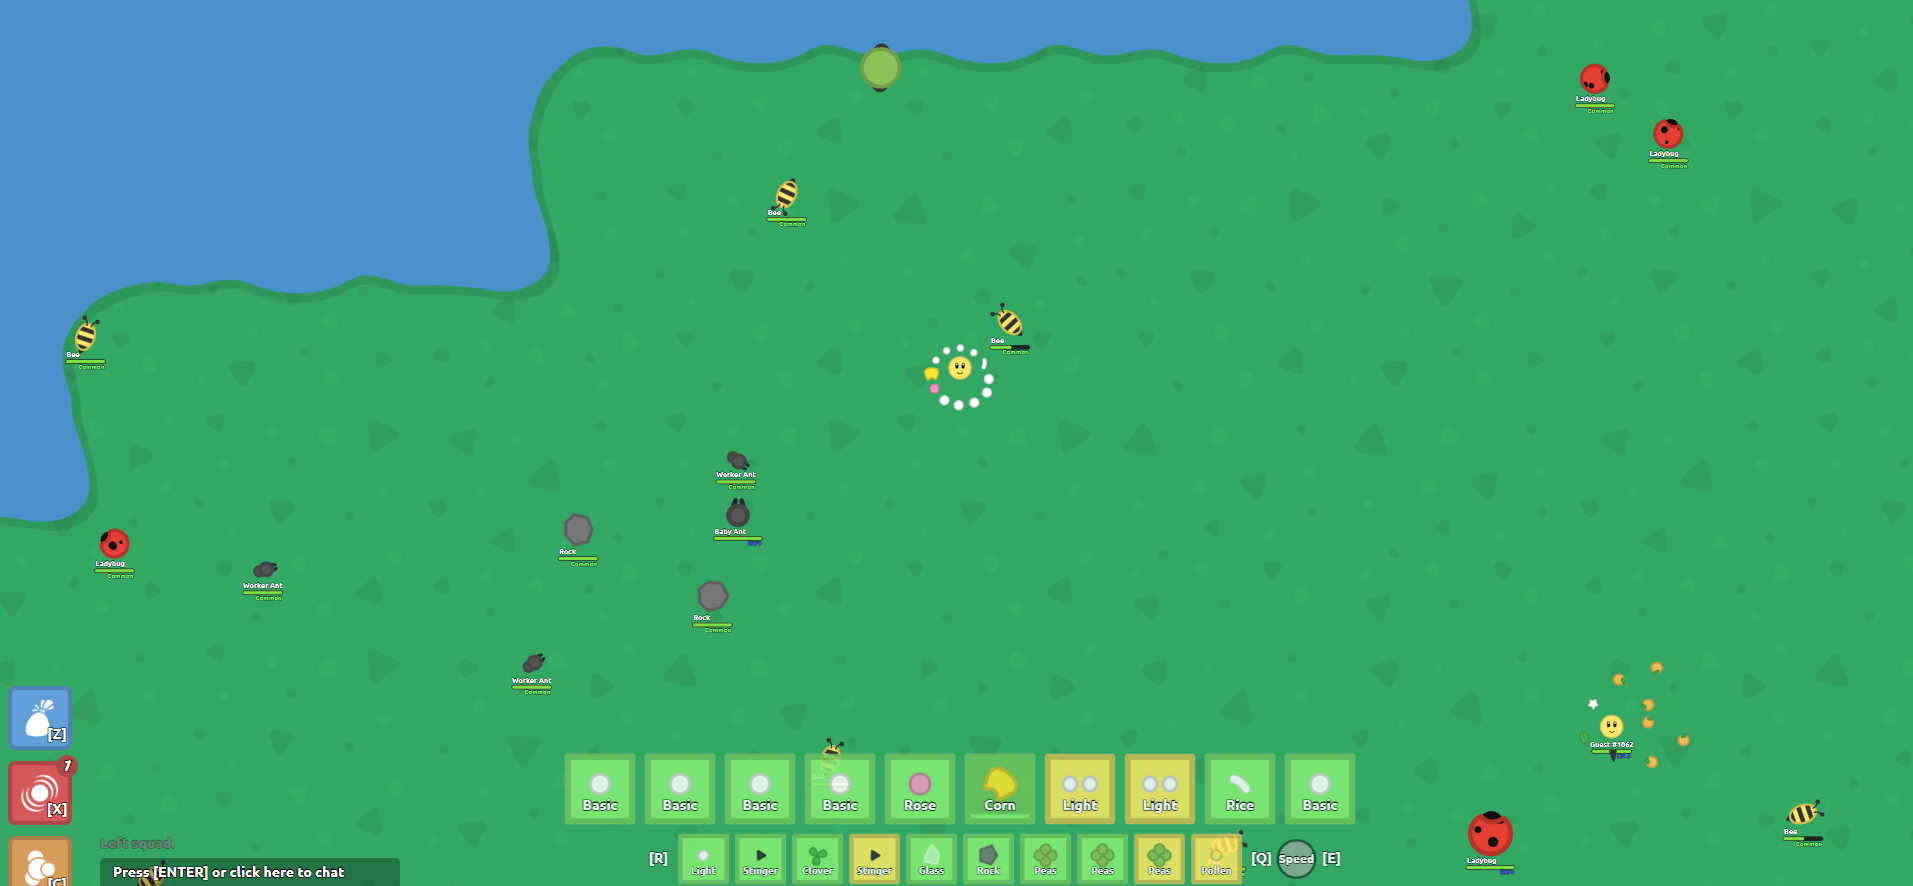Baby Ant: (724, 498, 753, 532)
Bee: (71, 318, 99, 357), (819, 744, 844, 785), (994, 308, 1024, 338), (1782, 804, 1820, 827), (773, 180, 800, 212)
Centipede: (861, 42, 900, 95)
Ladybug: (1464, 809, 1515, 860), (1577, 61, 1612, 97), (1651, 116, 1687, 151), (97, 527, 131, 562)
Rock: (697, 579, 731, 613), (564, 513, 593, 547)
Worker Ant: (724, 450, 751, 472), (251, 562, 279, 581), (523, 652, 545, 674)
